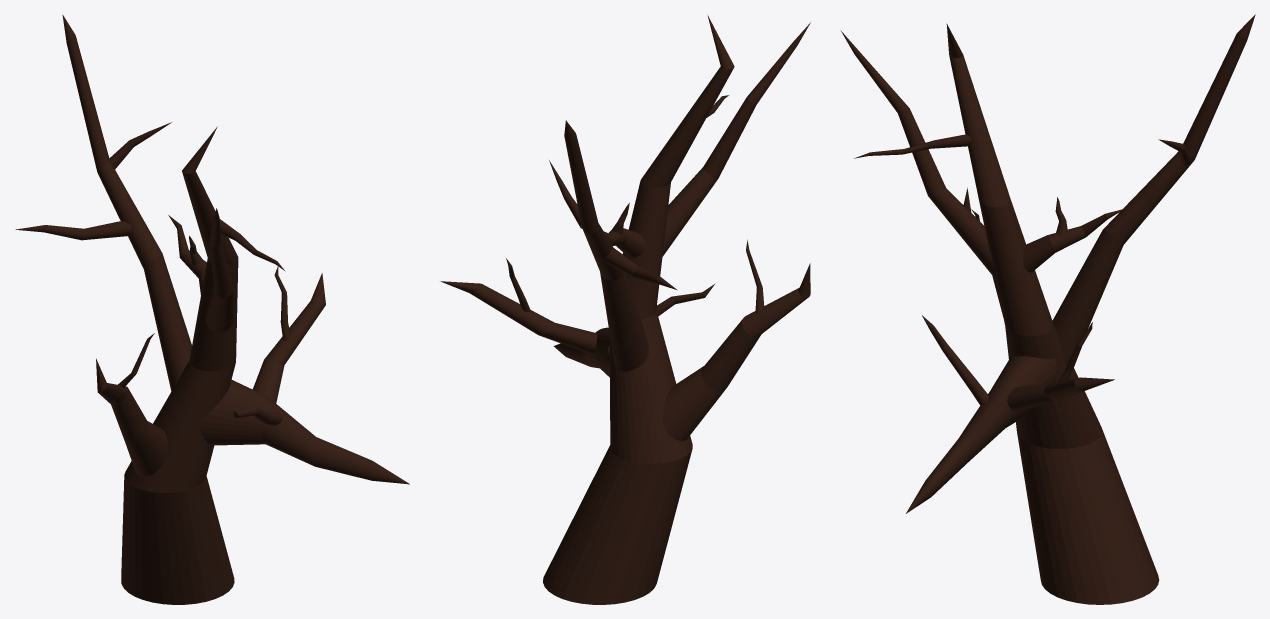
File: tree.obj
3 views of the same model, side by side, from view 1: azimuth 30°, elevation 25°; view 2: azimuth 150°, elevation 25°; view 3: azimuth 270°, elevation 25° (orthographic). The views are drawn at different scales.
Visible parts, largest first — view 1: Circle_Circle.001, Circle.007_Circle.008, Circle.005_Circle.006, Circle.002_Circle.003, Circle.011_Circle.012, Circle.006_Circle.007, Circle.009_Circle.010, Circle.001_Circle.002, Circle.004_Circle.005, Circle.008_Circle.009; view 2: Circle_Circle.001, Circle.002_Circle.003, Circle.007_Circle.008, Circle.006_Circle.007, Circle.011_Circle.012, Circle.005_Circle.006, Circle.009_Circle.010, Circle.001_Circle.002, Circle.012_Circle.013; view 3: Circle_Circle.001, Circle.007_Circle.008, Circle.005_Circle.006, Circle.006_Circle.007, Circle.011_Circle.012, Circle.001_Circle.002, Circle.012_Circle.013, Circle.004_Circle.005.
Part boxes in pixels (left/top/right/bottom): Circle_Circle.001: left=121, top=126, right=238, bottom=604; Circle.007_Circle.008: left=62, top=14, right=191, bottom=390; Circle.005_Circle.006: left=195, top=379, right=409, bottom=484; Circle.002_Circle.003: left=96, top=358, right=167, bottom=476; Circle.011_Circle.012: left=252, top=273, right=325, bottom=403; Circle.006_Circle.007: left=205, top=208, right=233, bottom=332; Circle.009_Circle.010: left=15, top=221, right=132, bottom=240; Circle.001_Circle.002: left=168, top=215, right=206, bottom=294; Circle.004_Circle.005: left=210, top=219, right=285, bottom=271; Circle.008_Circle.009: left=109, top=122, right=171, bottom=169; Circle_Circle.001: left=543, top=15, right=734, bottom=604; Circle.002_Circle.003: left=662, top=263, right=810, bottom=441; Circle.007_Circle.008: left=564, top=120, right=648, bottom=371; Circle.006_Circle.007: left=662, top=22, right=810, bottom=256; Circle.011_Circle.012: left=440, top=281, right=609, bottom=355; Circle.005_Circle.006: left=553, top=327, right=610, bottom=377; Circle.009_Circle.010: left=604, top=247, right=677, bottom=290; Circle.001_Circle.002: left=604, top=228, right=645, bottom=257; Circle.012_Circle.013: left=656, top=283, right=715, bottom=316; Circle_Circle.001: left=946, top=23, right=1159, bottom=604; Circle.007_Circle.008: left=1052, top=14, right=1255, bottom=365; Circle.005_Circle.006: left=906, top=356, right=1056, bottom=513; Circle.006_Circle.007: left=840, top=30, right=995, bottom=278; Circle.011_Circle.012: left=1007, top=377, right=1114, bottom=411; Circle.001_Circle.002: left=1023, top=208, right=1124, bottom=272; Circle.012_Circle.013: left=922, top=315, right=988, bottom=405; Circle.004_Circle.005: left=854, top=134, right=971, bottom=158.
Bounding box in the file's own units: 2.97 × 4.98 × 3.44.
